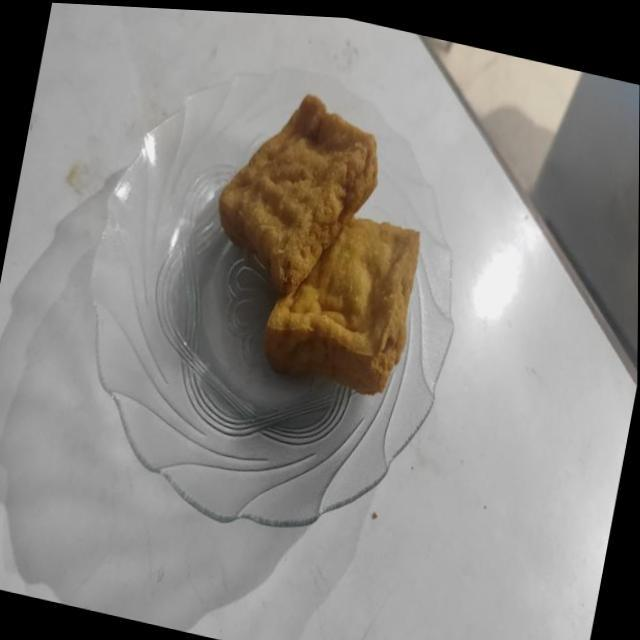tahu_goreng: (219, 95, 377, 296), (264, 218, 420, 394)
